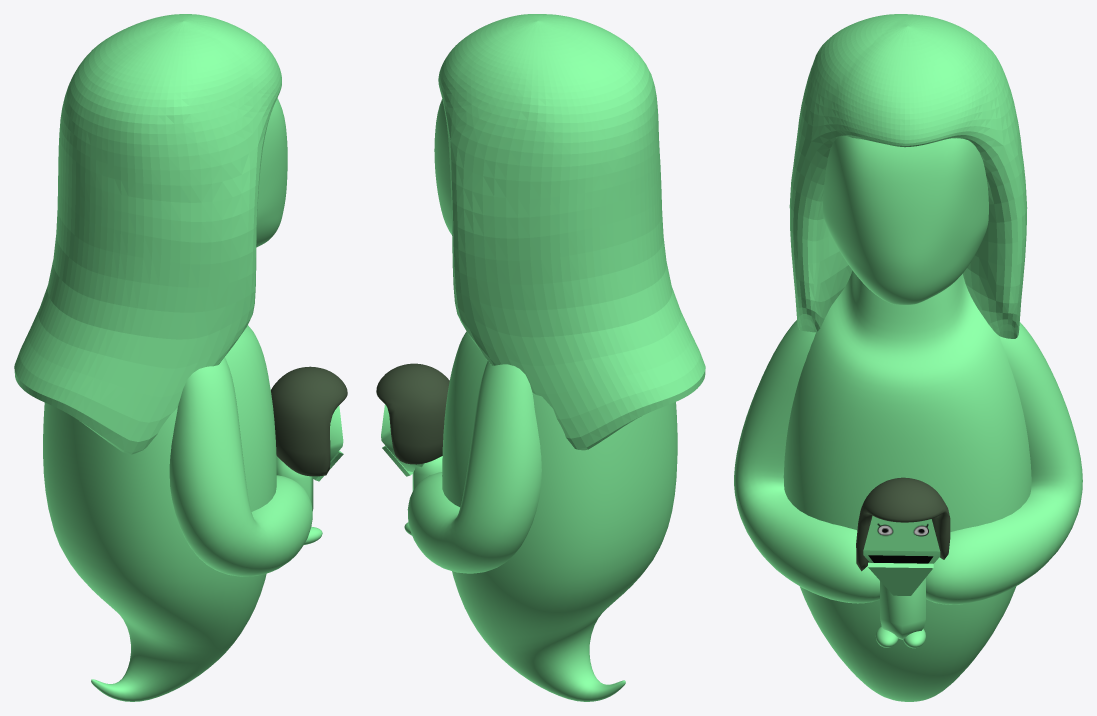
The model's file is ven.fbx.
The picture shows the model from 3 angles, left to right: view 1: azimuth 30°, elevation 25°; view 2: azimuth 150°, elevation 25°; view 3: azimuth 270°, elevation 25°; orthographic projection. The views are drawn at different scales.
Visible parts, largest first — view 1: hair, body, head, doll_head; view 2: hair, body, head, doll_head; view 3: body, hair, head, doll_face, body_2.
Boxes of the visible parts, box(x1,y1,x2,y2) form: hair: box(14, 14, 281, 454); body: box(43, 325, 347, 701); head: box(256, 98, 287, 247); doll_head: box(330, 405, 343, 460); hair: box(438, 14, 705, 450); body: box(376, 331, 677, 701); head: box(434, 99, 451, 234); doll_head: box(381, 404, 423, 472); body: box(734, 270, 1082, 701); hair: box(789, 14, 1027, 338); head: box(823, 136, 988, 305); doll_face: box(863, 516, 940, 551); body_2: box(868, 562, 933, 595).
Size of the model in its own units: 84.92 by 173 by 79.03.
Materials: 5 (2 with a texture image).
